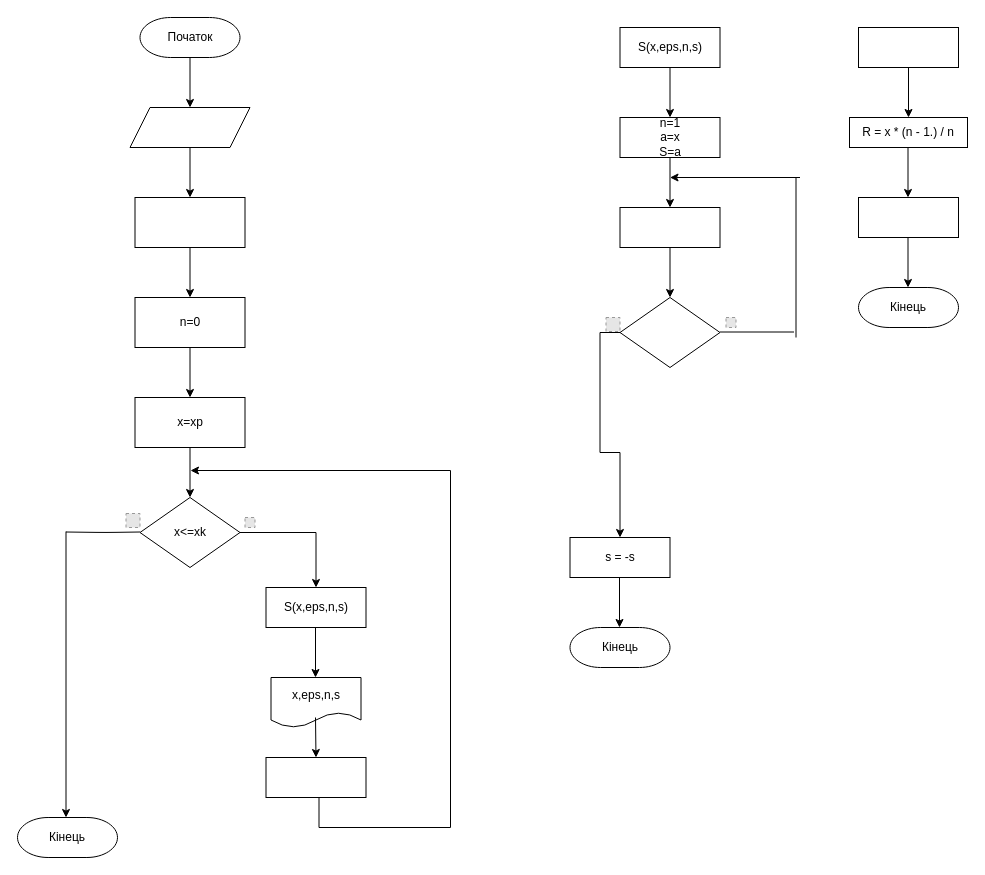
Some shapes in this 985 by 875 pixel diagram are drawn without their labels. Grey dashed boxes stand in for pictures. Each missing label, with the centre of its shape:
"A(x,n,a)" belongs at pixel 908 47.
"a*=R" belongs at pixel 908 217.
"abs(a) >=eps" belongs at pixel 669 332.
"n++ A(x,n,a) s+=a" belongs at pixel 669 227.
"x+=dx" belongs at pixel 315 777.
"xp, xk, x, dx, eps, s = 0" belongs at pixel 189 222.
"xp,xk,x,eps," belongs at pixel 189 127.
